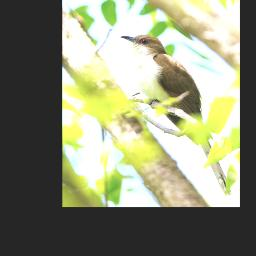Cuckoo: (119, 32, 234, 197)
